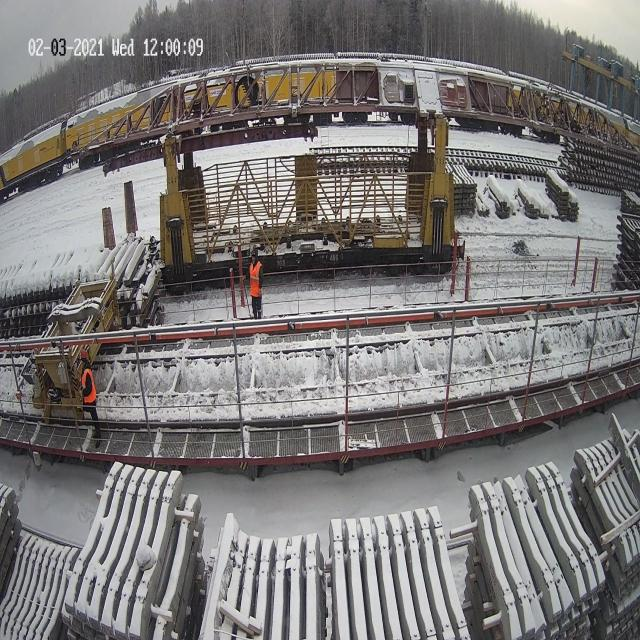Helmet: (80, 350, 86, 359), (251, 249, 257, 257)
Person: (80, 351, 102, 448), (249, 248, 263, 319)
